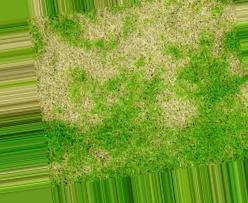patch: (41, 48, 79, 117), (131, 15, 172, 75), (74, 47, 130, 88), (159, 88, 182, 128)
